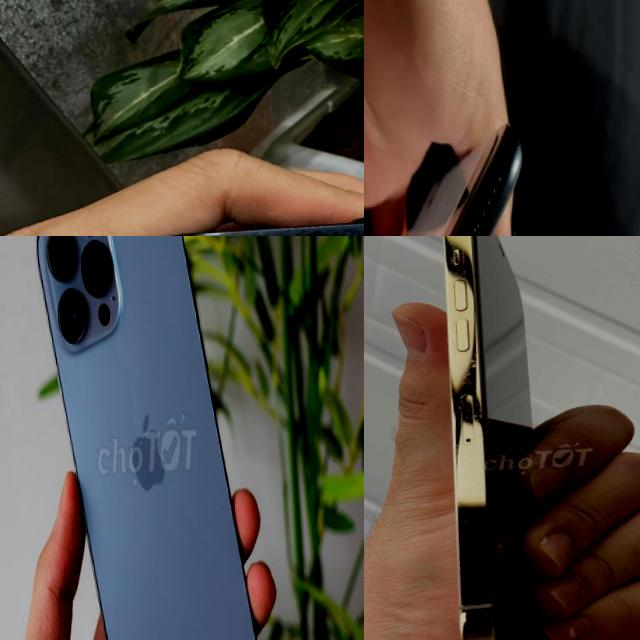gen_12_13: (32, 236, 265, 640), (423, 236, 572, 640)
gen_14: (153, 200, 364, 236)
gen_7_8: (407, 125, 522, 236)
scratch: (159, 212, 364, 236), (494, 132, 513, 161)
